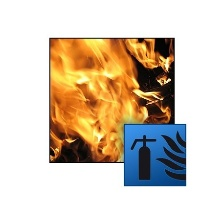fire: (52, 39, 175, 163)
